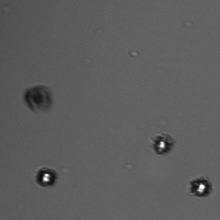Dead Cell: (22, 84, 56, 114)
Living Cell: (150, 134, 174, 156), (189, 176, 212, 198), (35, 167, 57, 188)
